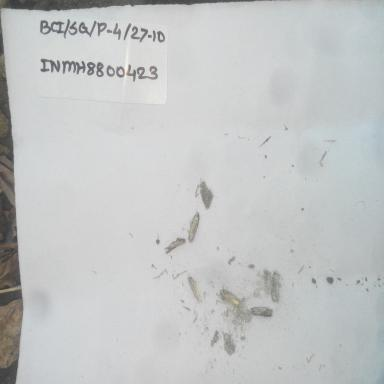pbw: (218, 284, 244, 310), (269, 268, 283, 304), (186, 209, 200, 244), (186, 274, 202, 304), (198, 179, 213, 210), (164, 235, 186, 256), (250, 304, 274, 319)
